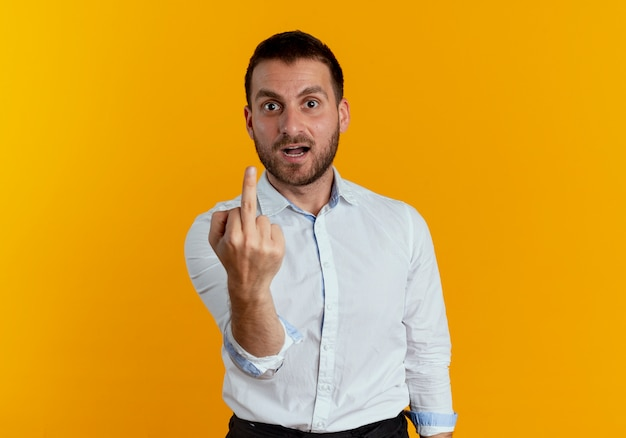insulting_gesture: (206, 164, 290, 290)
